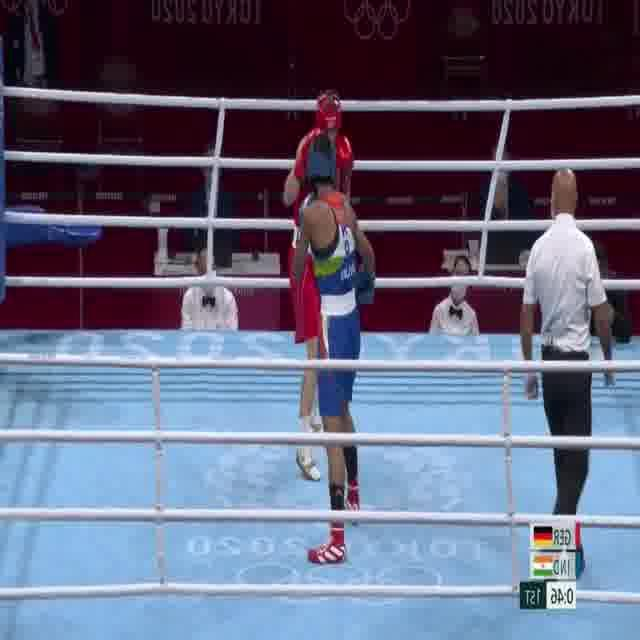blue-player: (303, 134, 380, 568)
red-player: (279, 89, 357, 484)
referee: (514, 163, 616, 585)
